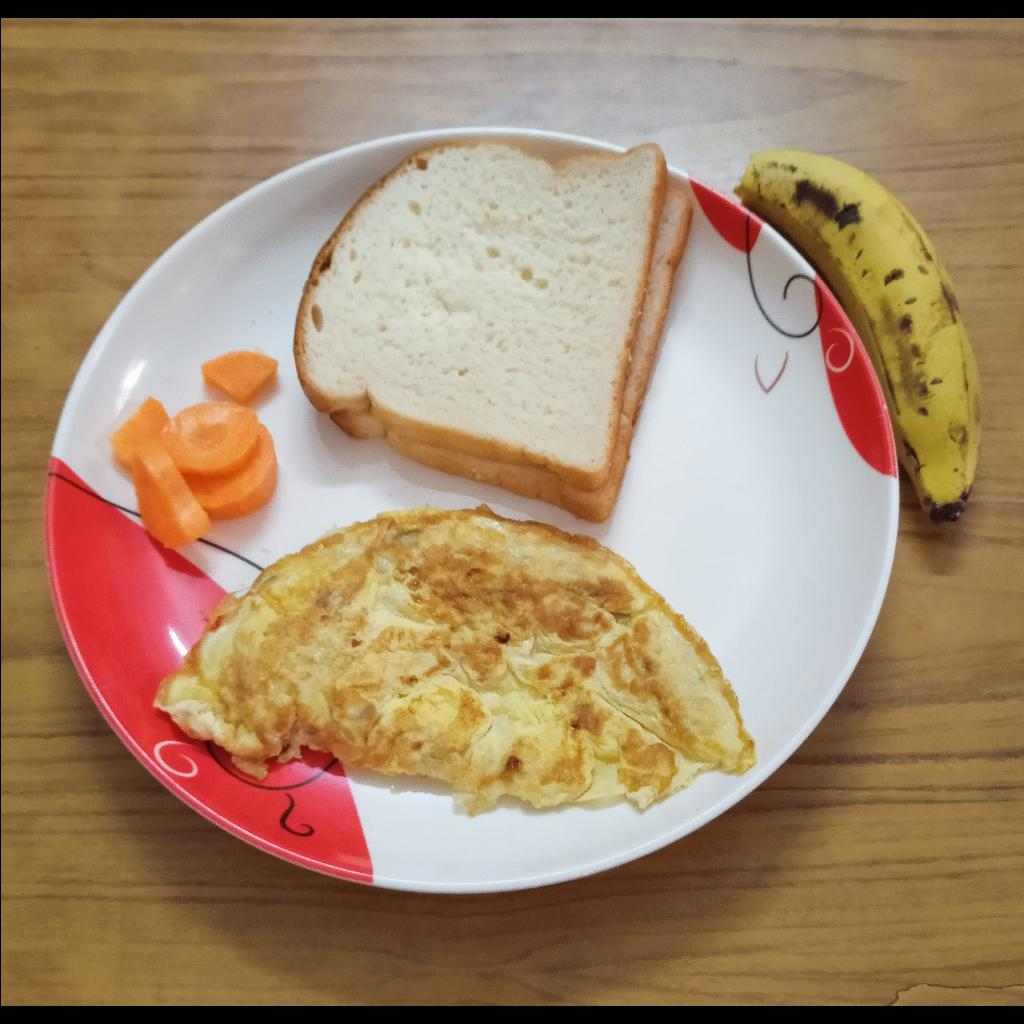banana: (738, 148, 986, 520)
bread: (293, 140, 695, 524)
carrot: (108, 349, 280, 548)
egg-poached: (151, 508, 759, 815)
